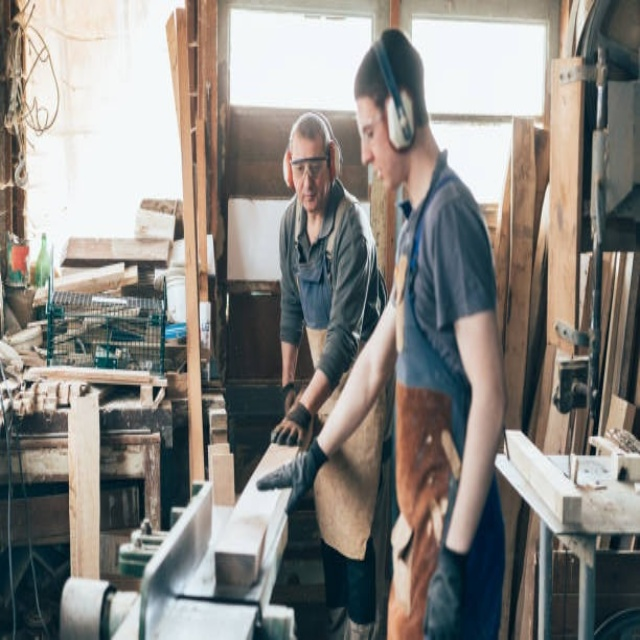Gafas: (291, 155, 329, 177)
Guantes: (256, 433, 335, 514), (418, 528, 475, 635), (271, 398, 314, 450)
Sin_gafas: (352, 117, 385, 147)
Sin_mascara: (364, 155, 391, 183), (297, 186, 322, 210)
